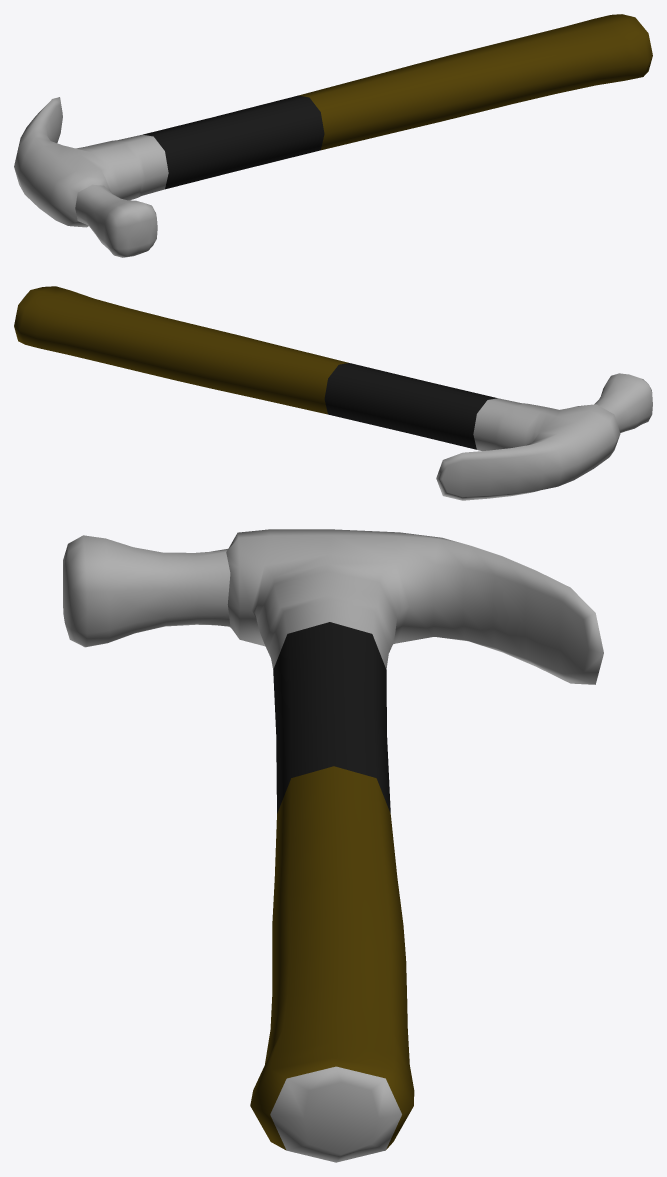
File: Hammer.fbx
The picture shows the model from 3 angles, top to bottom: view 1: azimuth 30°, elevation 25°; view 2: azimuth 150°, elevation 25°; view 3: azimuth 270°, elevation 25°; orthographic projection. The views are drawn at different scales.
Parts seen in each view (by area): view 1: pCube149; view 2: pCube149; view 3: pCube149.
Part boxes in pixels (x1=…): pCube149: x1=14, y1=14, x2=652, y2=257; pCube149: x1=14, y1=286, x2=652, y2=500; pCube149: x1=63, y1=529, x2=603, y2=1162.
Size of the model in its own units: 21.92 by 1.76 by 8.94.
